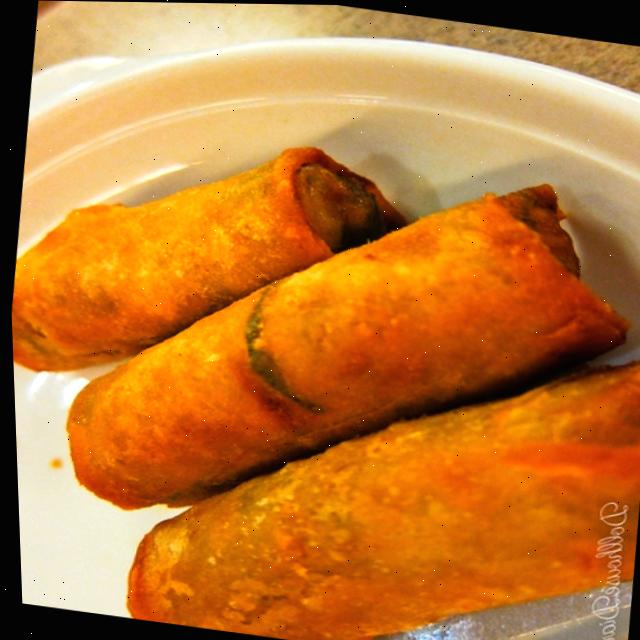炸货点心: (3, 110, 640, 640)
